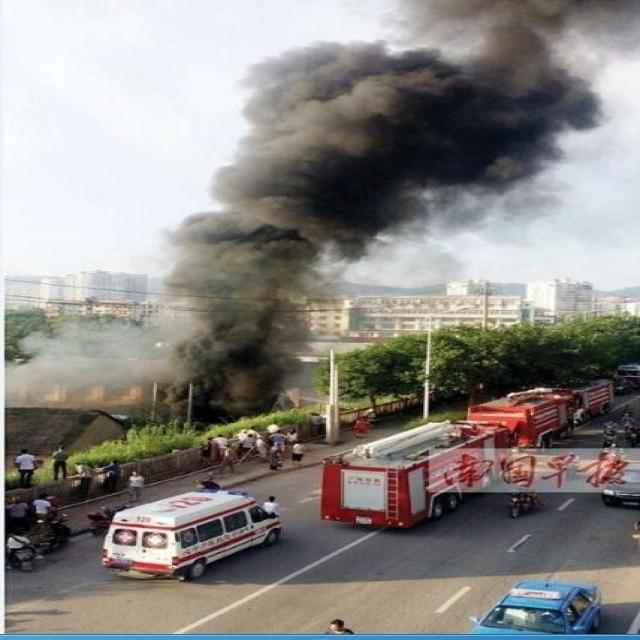Smoke: (1, 1, 640, 422)
